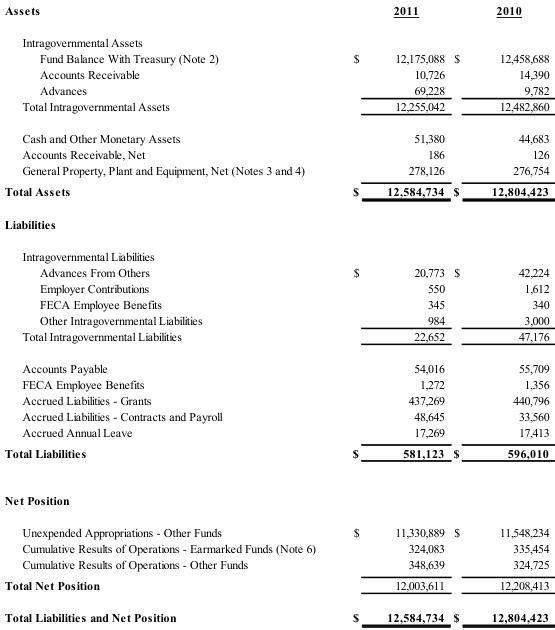table: (3, 3, 548, 623)
table column: (3, 3, 333, 623), (333, 3, 448, 623), (448, 3, 548, 623)
table column header: (3, 3, 548, 26)
table projected row header: (3, 476, 548, 516), (3, 207, 548, 240), (3, 26, 548, 50), (3, 240, 548, 264)
table row: (3, 476, 548, 516), (3, 442, 548, 476), (3, 207, 548, 240), (3, 180, 548, 207), (3, 574, 548, 600), (3, 26, 548, 50), (3, 98, 548, 122), (3, 122, 548, 146), (3, 240, 548, 264), (3, 351, 548, 375), (3, 516, 548, 540), (3, 3, 548, 26), (3, 328, 548, 351), (3, 600, 548, 623), (3, 423, 548, 442), (3, 162, 548, 180), (3, 556, 548, 574), (3, 50, 548, 66), (3, 66, 548, 82), (3, 82, 548, 98), (3, 146, 548, 162), (3, 264, 548, 280), (3, 280, 548, 296), (3, 296, 548, 312), (3, 312, 548, 328), (3, 375, 548, 391), (3, 391, 548, 407), (3, 407, 548, 423), (3, 540, 548, 556)
